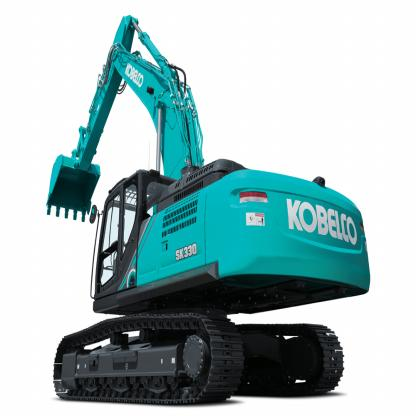excavator: (38, 10, 385, 403)
